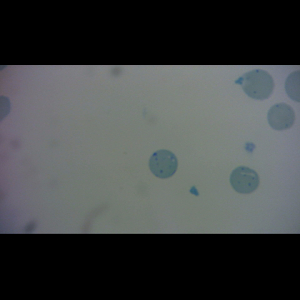punctate reticulocyte: (233, 67, 277, 102), (228, 164, 261, 196), (148, 148, 179, 180), (266, 102, 297, 132)
